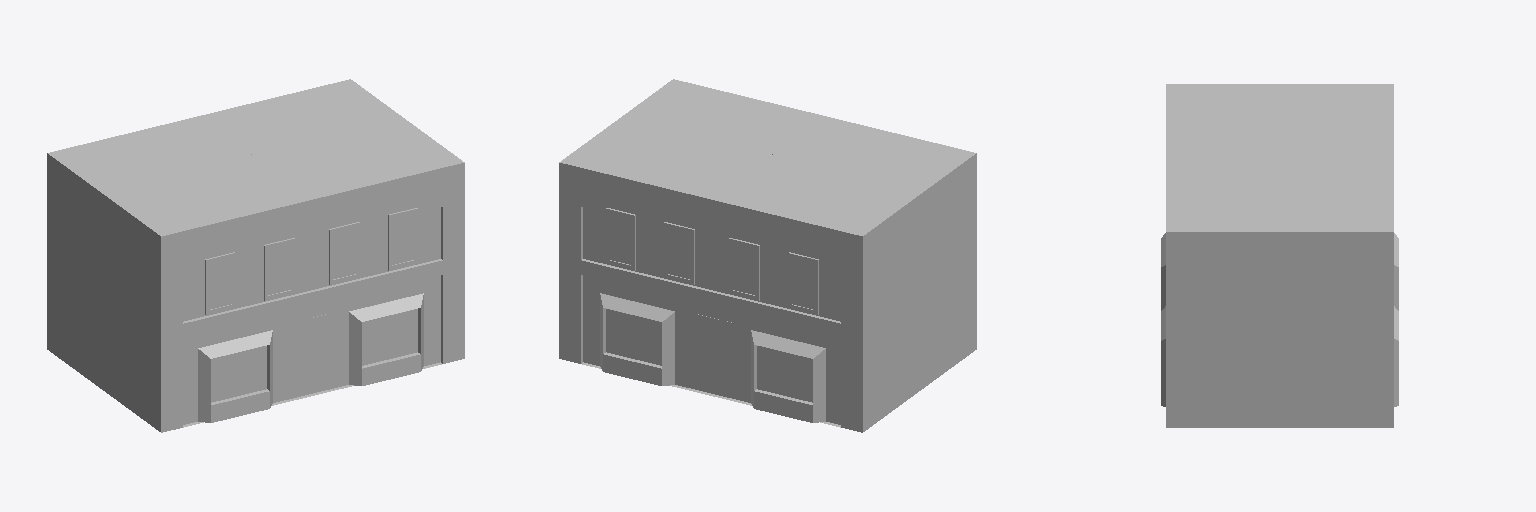
File: building-2.obj
The picture shows the model from 3 angles: view 1: azimuth 30°, elevation 25°; view 2: azimuth 150°, elevation 25°; view 3: azimuth 270°, elevation 25°; orthographic projection.
Parts seen in each view (by area): view 1: pCube1, display:pCube16, display:pCube14, door:pCube11, pCube18, pCube15, pCube19, pCube14, display:pCube15; view 2: pCube1, display:pCube18, display:pCube17, pCube11, pCube12, pCube17, pCube13, pCube16; view 3: pCube1.
Boxes of the visible parts, <box> form: pCube1: <box>47,79,464,432</box>; display:pCube16: <box>349,293,423,385</box>; display:pCube14: <box>198,330,272,422</box>; door:pCube11: <box>292,314,328,397</box>; pCube18: <box>264,238,294,300</box>; pCube15: <box>388,208,418,270</box>; pCube19: <box>205,252,235,315</box>; pCube14: <box>329,222,359,284</box>; display:pCube15: <box>198,345,266,422</box>; pCube1: <box>559,79,976,432</box>; display:pCube18: <box>751,330,825,422</box>; display:pCube17: <box>600,293,674,385</box>; pCube11: <box>695,314,731,397</box>; pCube12: <box>605,208,635,270</box>; pCube17: <box>729,238,759,300</box>; pCube13: <box>664,222,694,284</box>; pCube16: <box>788,252,818,315</box>; pCube1: <box>1166,84,1393,427</box>.
Size of the model in its own units: 16.01 by 9.9 by 10.9.